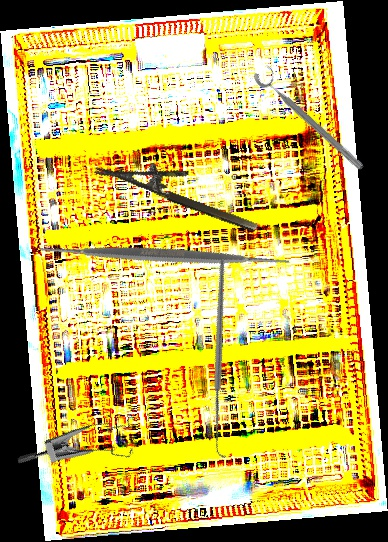Fixation Ring: (250, 61, 373, 174)
Hook Surgical: (132, 258, 314, 460)
Needle Holder: (93, 140, 267, 235)
Spatula Surgical: (30, 121, 300, 391)
Speculum: (15, 398, 146, 508)
